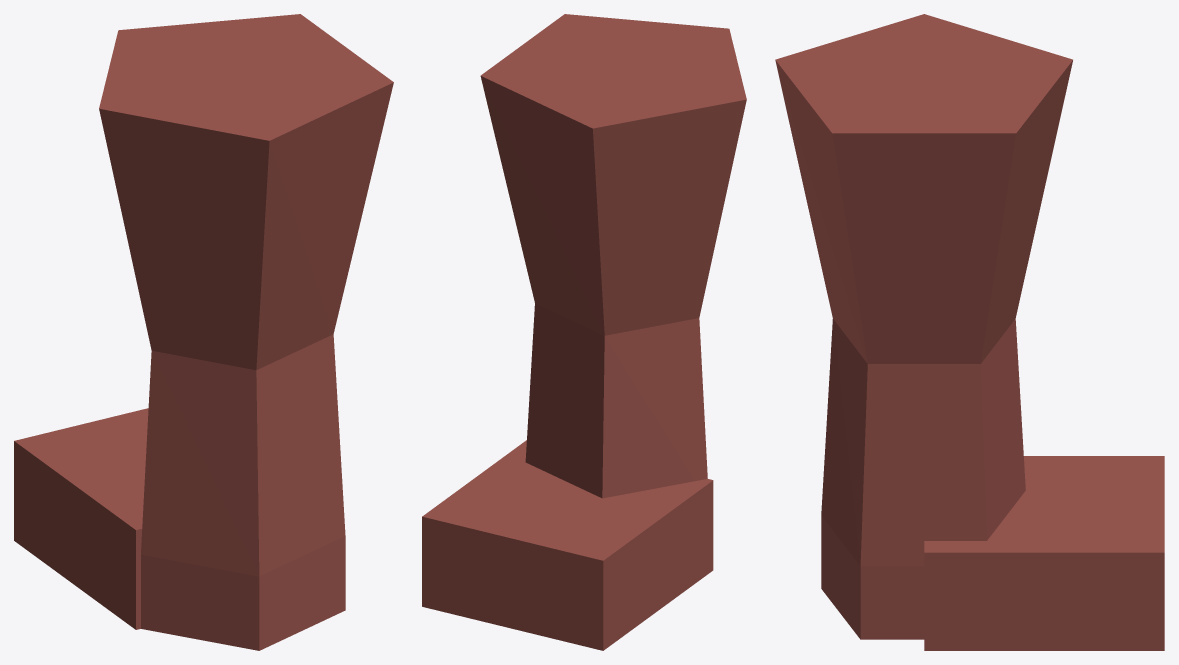
File: animal_boomrat_leg.obj
The picture shows the model from 3 angles, left to right: view 1: azimuth 30°, elevation 25°; view 2: azimuth 150°, elevation 25°; view 3: azimuth 270°, elevation 25°; orthographic projection. The views are drawn at different scales.
Visible parts, largest first — view 1: animal_boomrat_leg; view 2: animal_boomrat_leg; view 3: animal_boomrat_leg.
Boxes of the visible parts, x1,y1,x2,y2 form: animal_boomrat_leg: (14,14,393,650); animal_boomrat_leg: (422,14,746,650); animal_boomrat_leg: (775,14,1164,650).
Size of the model in its own units: 0.051 by 0.1041 by 0.0703.
